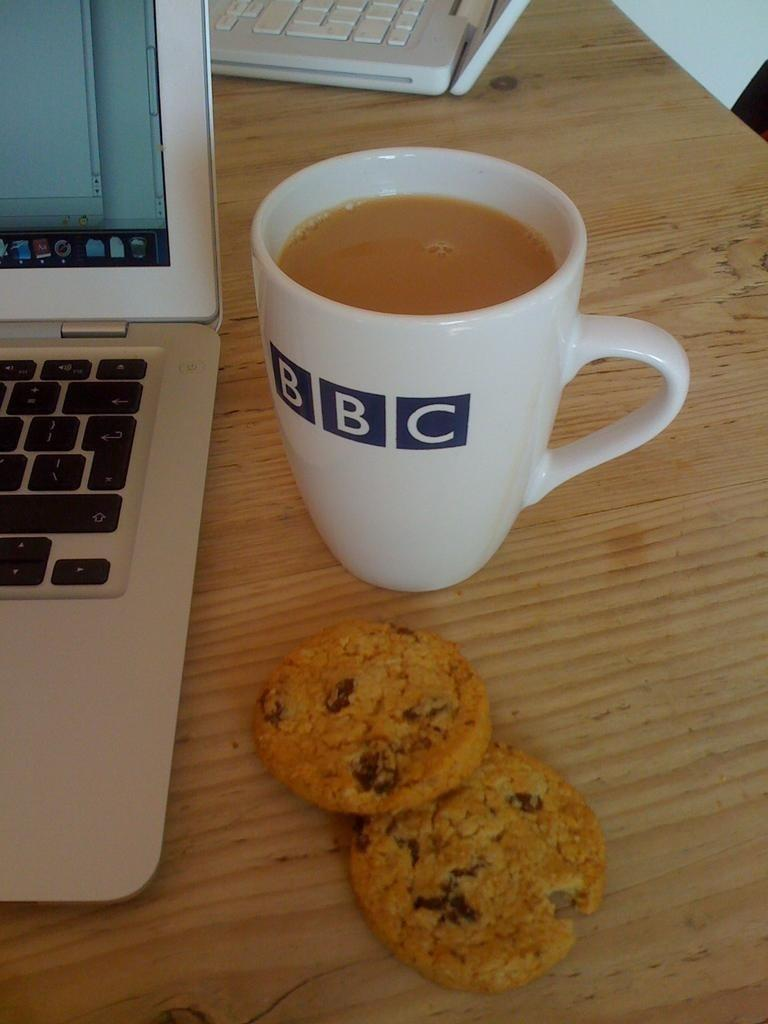cup-handle: (251, 147, 695, 593)
